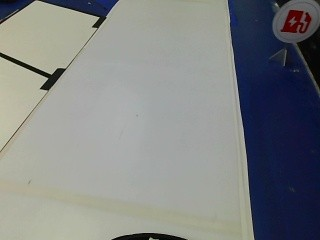battery: (271, 1, 319, 42)
